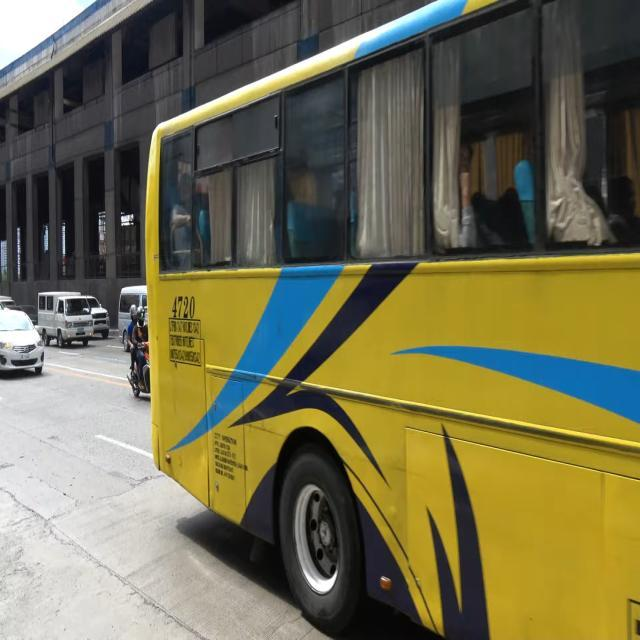bus: (143, 0, 640, 640)
car: (0, 304, 44, 378), (82, 293, 110, 340)
motorcycle: (125, 304, 154, 401)
truck: (38, 290, 94, 348)
